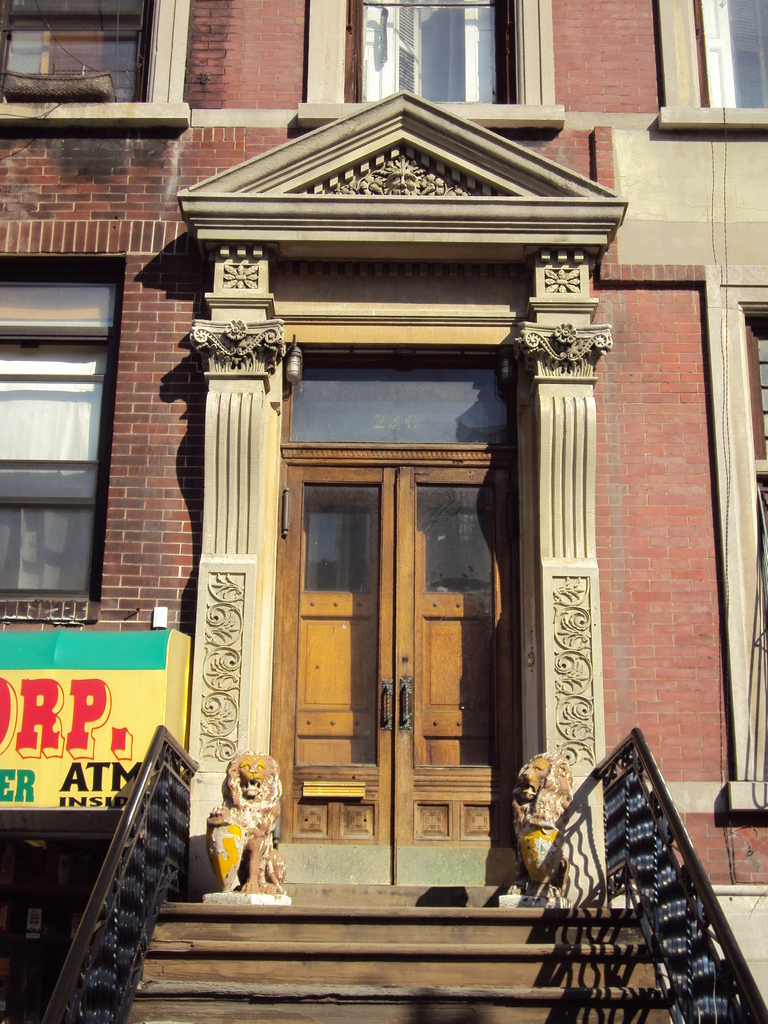Door: (254, 371, 526, 884)
